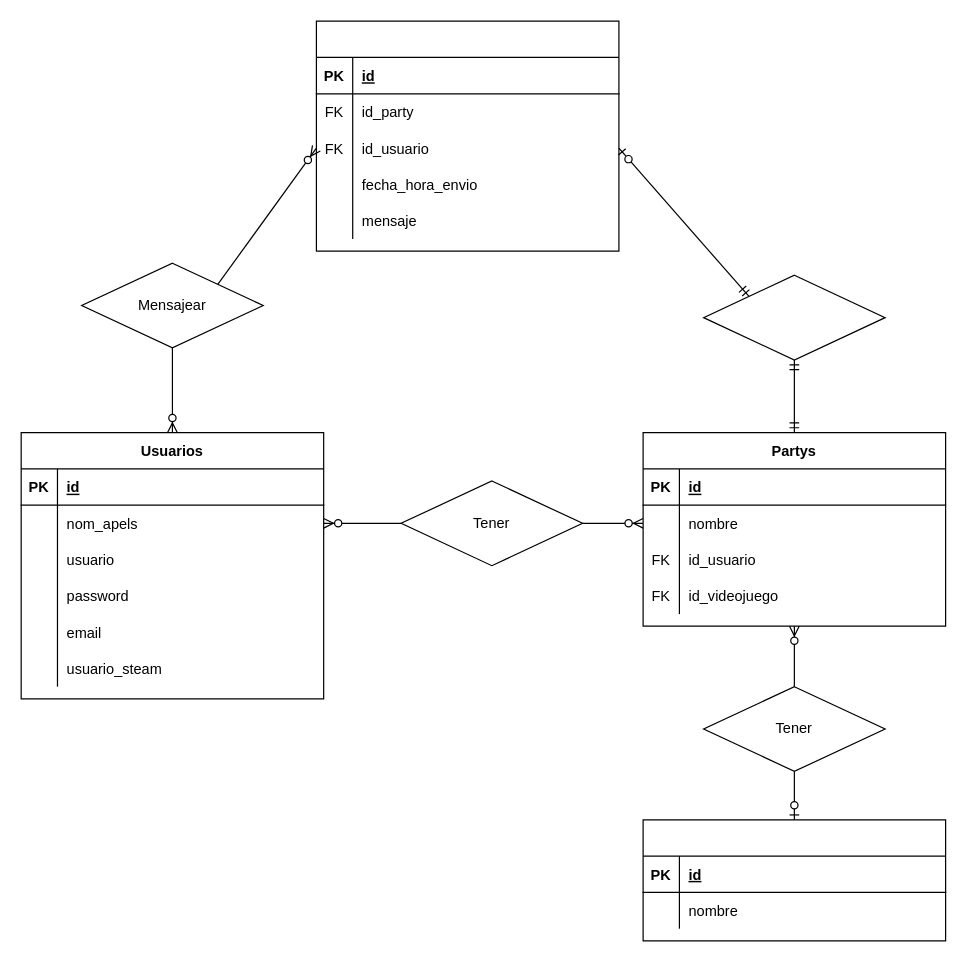
Image size: 967x962. Some labels were removed from this diagram. Here are the shapes that lost their labels. From the top down, the box of each, then its label:
(315, 20, 619, 251): Chat
(702, 274, 885, 360): Integrar
(642, 819, 946, 941): Videojuegos
